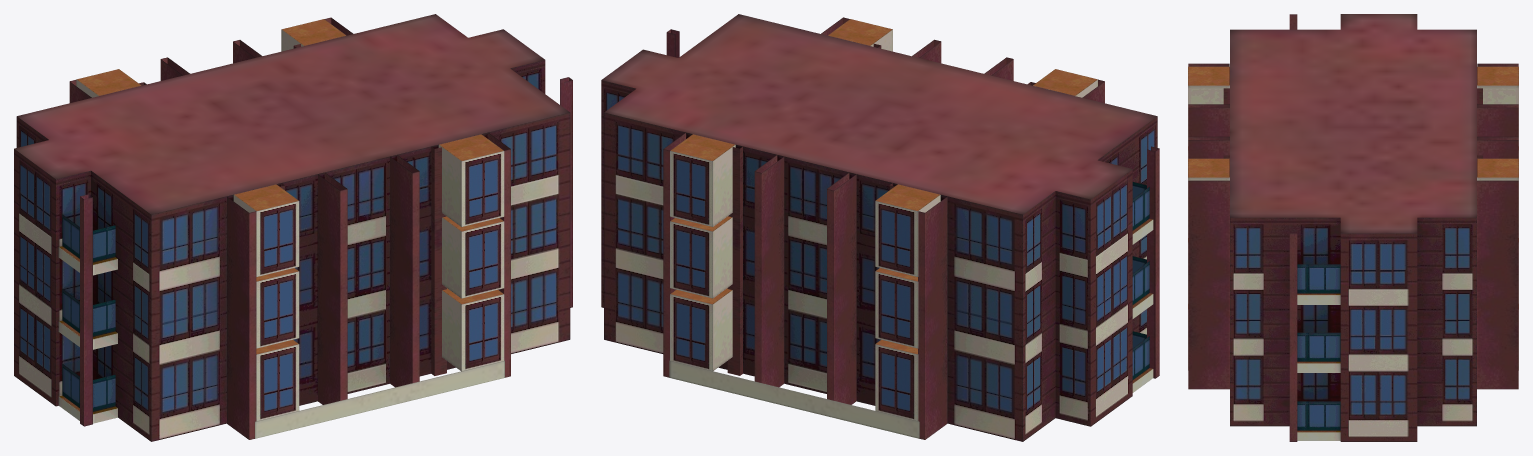
File: house_03.obj
The picture shows the model from 3 angles, left to right: view 1: azimuth 30°, elevation 25°; view 2: azimuth 150°, elevation 25°; view 3: azimuth 270°, elevation 25°; orthographic projection. The views are drawn at different scales.
Parts seen in each view (by area): view 1: juminzhong05; view 2: juminzhong05; view 3: juminzhong05.
Part boxes in pixels (box(x1,y1,x2,y2)): juminzhong05: box(14, 14, 572, 441); juminzhong05: box(601, 14, 1159, 441); juminzhong05: box(1188, 14, 1518, 441).
Size of the model in its own units: 4.47 by 1.98 by 2.85.
